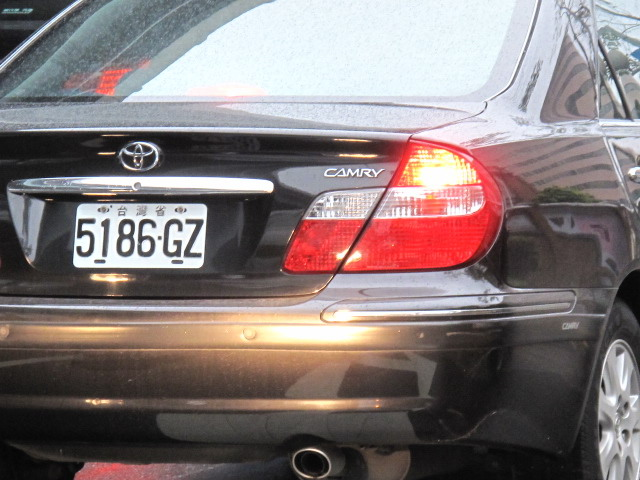plate: (71, 201, 209, 272)
